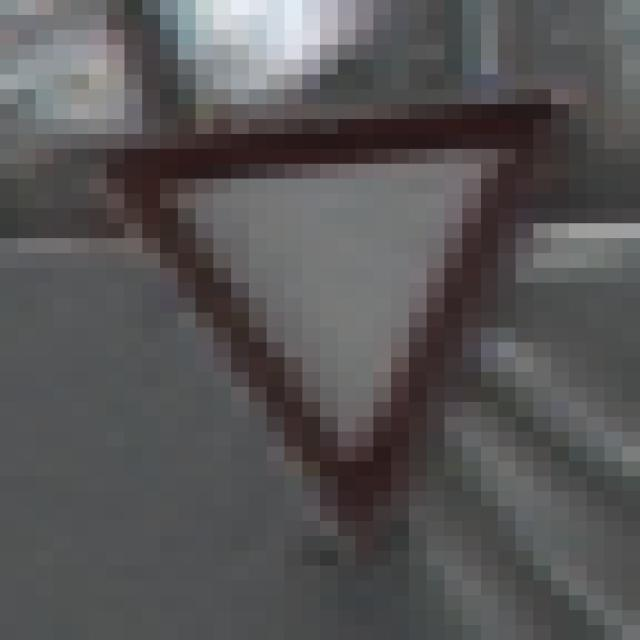Give Way: (90, 76, 552, 567)
